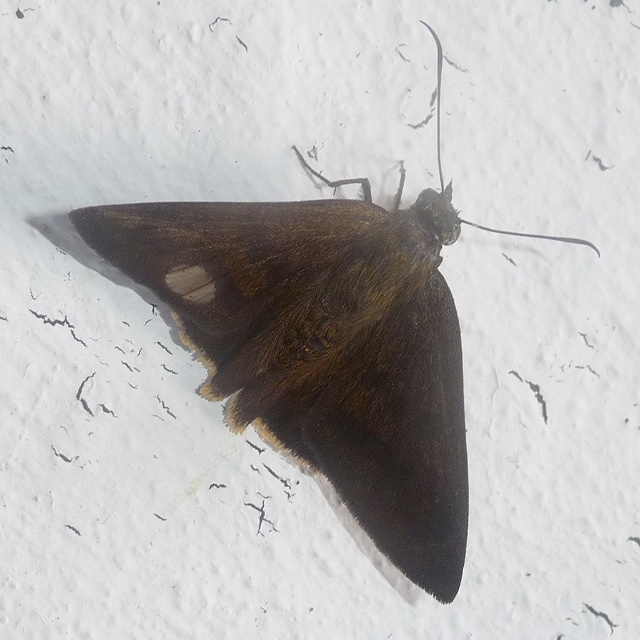Butterfly: (82, 65, 600, 603)
